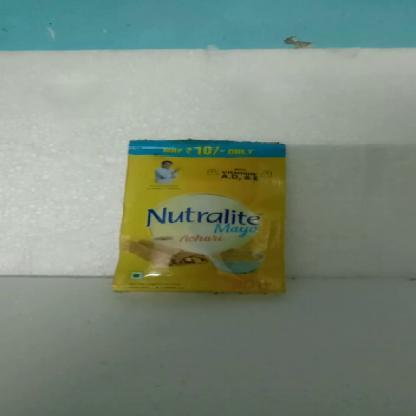Nutralite ACHARI MAYO 30g: (122, 140, 292, 292)
